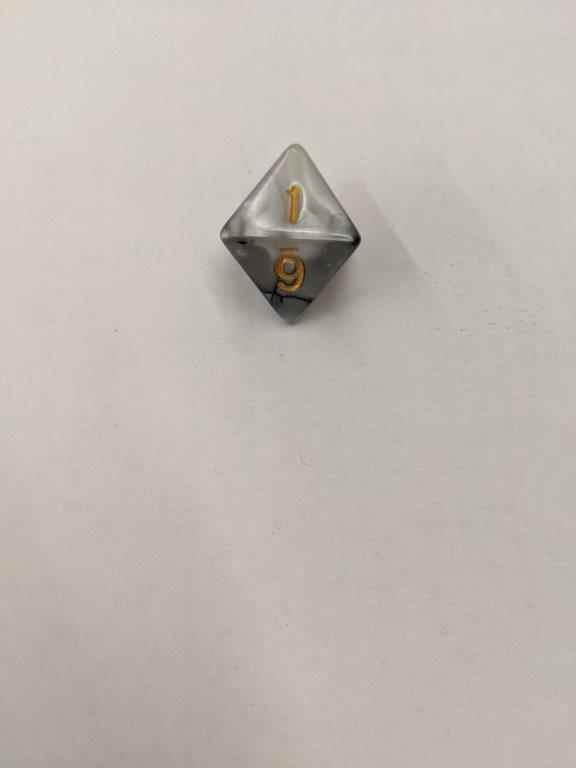d8-1: (217, 141, 366, 328)
